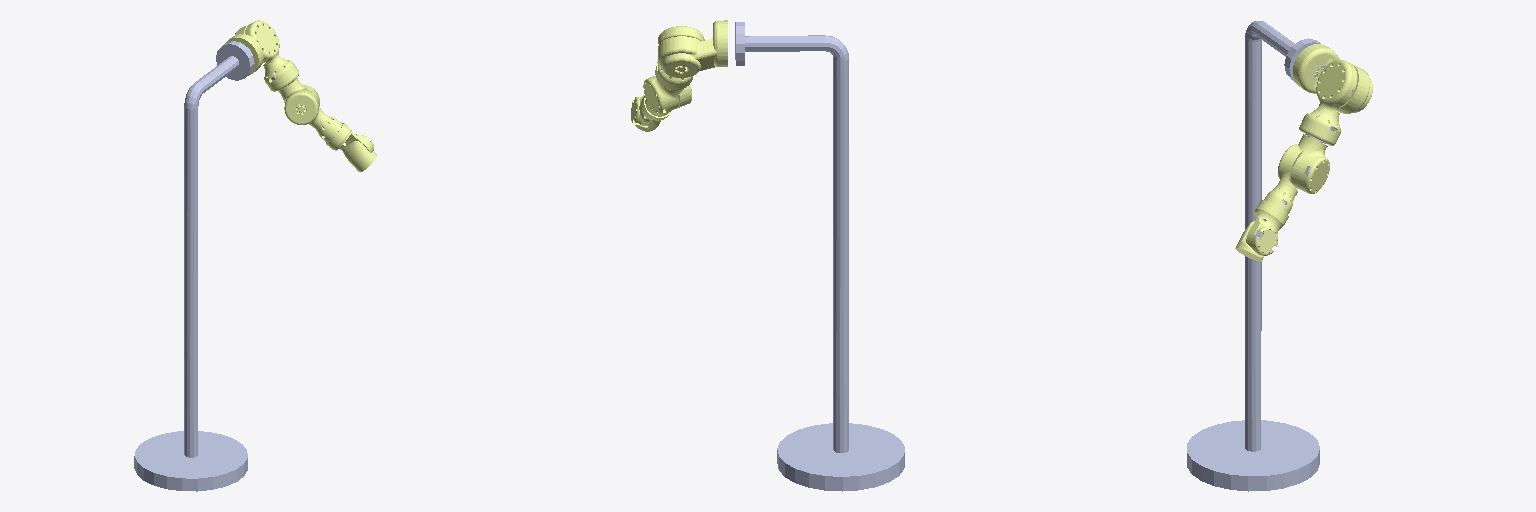
--- Facts derived from the render (not from the file) ---
Views: 3 orthographic renders of the robot side by side, from view 1: azimuth 30°, elevation 25°; view 2: azimuth 150°, elevation 25°; view 3: azimuth 270°, elevation 25°.
Robot: humanoid_arm_5dof_1.1 — 34 links, 33 joints (6 revolute, 27 fixed); root link base_fixture_link; default pose: every joint at zero.
Links seen in each view (by area): view 1: base_fixture_link, left_shoulder_roll, left_elbow, left_hand, left_wrist, left_shoulder_pitch; view 2: base_fixture_link, left_shoulder_pitch, left_shoulder_yaw, left_shoulder_roll, left_wrist; view 3: base_fixture_link, left_shoulder_roll, left_shoulder_pitch, left_shoulder_yaw, left_wrist, left_elbow.
Link boxes in pixels (<box>): base_fixture_link: <box>134,41,254,491</box>; left_shoulder_roll: <box>245,20,298,91</box>; left_elbow: <box>284,90,342,142</box>; left_hand: <box>343,141,376,171</box>; left_wrist: <box>326,123,373,152</box>; left_shoulder_pitch: <box>226,25,264,74</box>; base_fixture_link: <box>735,22,904,491</box>; left_shoulder_pitch: <box>658,20,727,77</box>; left_shoulder_yaw: <box>643,76,683,114</box>; left_shoulder_roll: <box>655,26,704,89</box>; left_wrist: <box>631,95,672,125</box>; base_fixture_link: <box>1187,21,1320,491</box>; left_shoulder_roll: <box>1299,60,1357,145</box>; left_shoulder_pitch: <box>1293,44,1372,113</box>; left_shoulder_yaw: <box>1291,134,1329,193</box>; left_wrist: <box>1246,200,1288,255</box>; left_elbow: <box>1264,144,1302,214</box>.
Size in the robot's own frame: 0.9479 by 0.5564 by 1.52 metres.
Meshes: 34 distinct files referenced, 33 mesh visuals loaded (33 binary STL); not drawn: 1 (reference not matched to a file when rendering).

URDF robot description (humanoid_arm_5dof_1.1):
<?xml version="1.0" encoding="utf-8"?>
<!-- This URDF was automatically created by SolidWorks to URDF Exporter! Originally created by Stephen Brawner ([email redacted]) 
     Commit Version: 1.6.0-4-g7f85cfe  Build Version: 1.6.7995.38578
     For more information, please see http://wiki.ros.org/sw_urdf_exporter -->
<robot
  name="humanoid_arm_5dof_1.1">
  <link
    name="base_fixture_link">
    <inertial>
      <origin
        xyz="0.020038 0.011873 0.36664"
        rpy="0 0 0" />
      <mass
        value="400" />
      <inertia
        ixx="2.851"
        ixy="-0.025185"
        ixz="-0.21797"
        iyy="2.8785"
        iyz="-0.12915"
        izz="0.18525" />
    </inertial>
    <visual>
      <origin
        xyz="0 0 0"
        rpy="0 0 0" />
      <geometry>
        <mesh
          filename="package://humanoid_arm_5dof_1.1/meshes/base_fixture_link.STL" />
      </geometry>
      <material
        name="">
        <color
          rgba="0.79216 0.81961 0.93333 1" />
      </material>
    </visual>
    <collision>
      <origin
        xyz="0 0 0"
        rpy="0 0 0" />
      <geometry>
        <mesh
          filename="package://humanoid_arm_5dof_1.1/meshes/base_fixture_link.STL" />
      </geometry>
    </collision>
  </link>
  <link
    name="left_shoulder_pitch_rs04_actuator">
    <inertial>
      <origin
        xyz="-0.024532 1.1724E-12 -9.6279E-13"
        rpy="0 0 0" />
      <mass
        value="0.51742" />
      <inertia
        ixx="0.00087641"
        ixy="-1.1557E-17"
        ixz="-1.4766E-16"
        iyy="0.0005424"
        iyz="-3.5471E-06"
        izz="0.00054116" />
    </inertial>
    <visual>
      <origin
        xyz="0 0 0"
        rpy="0 0 0" />
      <geometry>
        <mesh
          filename="package://humanoid_arm_5dof_1.1/meshes/left_shoulder_pitch_rs04_actuator.STL" />
      </geometry>
      <material
        name="">
        <color
          rgba="0.82353 0.82353 1 1" />
      </material>
    </visual>
    <collision>
      <origin
        xyz="0 0 0"
        rpy="0 0 0" />
      <geometry>
        <mesh
          filename="package://humanoid_arm_5dof_1.1/meshes/left_shoulder_pitch_rs04_actuator.STL" />
      </geometry>
    </collision>
  </link>
  <joint
    name="left_shoulder_pitch_rs04_actuator_fixture_link"
    type="fixed">
    <origin
      xyz="0.32924 0.19509 1.45"
      rpy="-0.6108 0 0.53491" />
    <parent
      link="base_fixture_link" />
    <child
      link="left_shoulder_pitch_rs04_actuator" />
    <axis
      xyz="0 0 0" />
  </joint>
  <link
    name="left_shoulder_pitch_rs04_flange">
    <inertial>
      <origin
        xyz="-0.00188936806429085 -9.55715032979754E-05 2.58079796440214E-05"
        rpy="0 0 0" />
      <mass
        value="0.00758352122244523" />
      <inertia
        ixx="2.36230802703344E-06"
        ixy="5.7637945082695E-21"
        ixz="-6.12775397779283E-21"
        iyy="1.19406420659587E-06"
        iyz="2.43521972335611E-21"
        izz="1.19406420659588E-06" />
    </inertial>
    <visual>
      <origin
        xyz="0 0 0"
        rpy="0 0 0" />
      <geometry>
        <mesh
          filename="package://humanoid_arm_5dof_1.1/meshes/left_shoulder_pitch_rs04_flange.STL" />
      </geometry>
      <material
        name="">
        <color
          rgba="0.823529411764706 0.823529411764706 1 1" />
      </material>
    </visual>
    <collision>
      <origin
        xyz="0 0 0"
        rpy="0 0 0" />
      <geometry>
        <mesh
          filename="package://humanoid_arm_5dof_1.1/meshes/left_shoulder_pitch_rs04_flange.STL" />
      </geometry>
    </collision>
  </link>
  <joint
    name="left_shoulder_pitch_rs04_joint"
    type="revolute">
    <origin
      xyz="0 0 0"
      rpy="0 0 0" />
    <parent
      link="left_shoulder_pitch_rs04_actuator" />
    <child
      link="left_shoulder_pitch_rs04_flange" />
    <axis
      xyz="1 0 0" />
    <limit
      lower="-3.14"
      upper="3.14"
      effort="120"
      velocity="3" />
    <safety_controller
      soft_upper_limit="3.14"
      soft_lower_limit="-3.14"
      k_velocity="0" />
  </joint>
  <link
    name="m5x22_screws_left_shoulder_pitch">
    <inertial>
      <origin
        xyz="0.0063935043367972 -0.00479834508206478 0.00128572351764866"
        rpy="0 0 0" />
      <mass
        value="0.00474644340626601" />
      <inertia
        ixx="2.66191925293528E-08"
        ixy="-1.25098390817692E-13"
        ixz="-1.97477629424858E-13"
        iyy="3.310539167949E-07"
        iyz="8.62570751952679E-14"
        izz="3.31054672965684E-07" />
    </inertial>
    <visual>
      <origin
        xyz="0 0 0"
        rpy="0 0 0" />
      <geometry>
        <mesh
          filename="package://humanoid_arm_5dof_1.1/meshes/m5x22_screws_left_shoulder_pitch.STL" />
      </geometry>
      <material
        name="">
        <color
          rgba="0.792156862745098 0.819607843137255 0.933333333333333 1" />
      </material>
    </visual>
    <collision>
      <origin
        xyz="0 0 0"
        rpy="0 0 0" />
      <geometry>
        <mesh
          filename="package://humanoid_arm_5dof_1.1/meshes/m5x22_screws_left_shoulder_pitch.STL" />
      </geometry>
    </collision>
  </link>
  <joint
    name="m5x22_screws_left_shoulder_pitch_fixture_joint"
    type="fixed">
    <origin
      xyz="0 0 0"
      rpy="0 0 0" />
    <parent
      link="left_shoulder_pitch_rs04_flange" />
    <child
      link="m5x22_screws_left_shoulder_pitch" />
    <axis
      xyz="0 0 0" />
  </joint>
  <link
    name="left_shoulder_pitch">
    <inertial>
      <origin
        xyz="0.0682474669282063 0.0395514519562079 -5.23403518437604E-06"
        rpy="0 0 0" />
      <mass
        value="1.19772099934384" />
      <inertia
        ixx="0.00347656174420471"
        ixy="-0.00164350112456368"
        ixz="-3.10207740074819E-07"
        iyy="0.00604621894196034"
        iyz="-1.29484314098345E-07"
        izz="0.00615255051550607" />
    </inertial>
    <visual>
      <origin
        xyz="0 0 0"
        rpy="0 0 0" />
      <geometry>
        <mesh
          filename="package://humanoid_arm_5dof_1.1/meshes/left_shoulder_pitch.STL" />
      </geometry>
      <material
        name="">
        <color
          rgba="0.952941176470588 0.996078431372549 0.694117647058824 1" />
      </material>
    </visual>
    <collision>
      <origin
        xyz="0 0 0"
        rpy="0 0 0" />
      <geometry>
        <mesh
          filename="package://humanoid_arm_5dof_1.1/meshes/left_shoulder_pitch.STL" />
      </geometry>
    </collision>
  </link>
  <joint
    name="left_shoulder_pitch_fixture_joint"
    type="fixed">
    <origin
      xyz="0 0 0"
      rpy="0 0 0" />
    <parent
      link="m5x22_screws_left_shoulder_pitch" />
    <child
      link="left_shoulder_pitch" />
    <axis
      xyz="0 0 0" />
  </joint>
  <link
    name="m5x22_screws_left_shoulder_roll">
    <inertial>
      <origin
        xyz="0.11672415599943 0.0615935045052258 2.41514705503487E-05"
        rpy="0 0 0" />
      <mass
        value="0.00610257053905786" />
      <inertia
        ixx="4.25641380807024E-07"
        ixy="1.38655677483118E-13"
        ixz="4.65295401766927E-13"
        iyy="3.42246799589702E-08"
        iyz="2.62800032759062E-13"
        izz="4.25641102603541E-07" />
    </inertial>
    <visual>
      <origin
        xyz="0 0 0"
        rpy="0 0 0" />
      <geometry>
        <mesh
          filename="package://humanoid_arm_5dof_1.1/meshes/m5x22_screws_left_shoulder_roll.STL" />
      </geometry>
      <material
        name="">
        <color
          rgba="0.792156862745098 0.819607843137255 0.933333333333333 1" />
      </material>
    </visual>
    <collision>
      <origin
        xyz="0 0 0"
        rpy="0 0 0" />
      <geometry>
        <mesh
          filename="package://humanoid_arm_5dof_1.1/meshes/m5x22_screws_left_shoulder_roll.STL" />
      </geometry>
    </collision>
  </link>
  <joint
    name="m5x22_screws_left_shoulder_roll_fixture_joint"
    type="fixed">
    <origin
      xyz="0 0 0"
      rpy="0 0 0" />
    <parent
      link="left_shoulder_pitch" />
    <child
      link="m5x22_screws_left_shoulder_roll" />
    <axis
      xyz="0 0 0" />
  </joint>
  <link
    name="left_shoulder_roll_rs04_flange">
    <inertial>
      <origin
        xyz="-3.94129173741931E-14 -0.00211063193644101 9.66495772303233E-11"
        rpy="0 0 0" />
      <mass
        value="0.00758352122244502" />
      <inertia
        ixx="1.19406420659583E-06"
        ixy="9.52912065661088E-22"
        ixz="-5.42630481834786E-22"
        iyy="2.36230802703336E-06"
        iyz="-2.23655047491822E-15"
        izz="1.19406420659583E-06" />
    </inertial>
    <visual>
      <origin
        xyz="0 0 0"
        rpy="0 0 0" />
      <geometry>
        <mesh
          filename="package://humanoid_arm_5dof_1.1/meshes/left_shoulder_roll_rs04_flange.STL" />
      </geometry>
      <material
        name="">
        <color
          rgba="0.823529411764706 0.823529411764706 1 1" />
      </material>
    </visual>
    <collision>
      <origin
        xyz="0 0 0"
        rpy="0 0 0" />
      <geometry>
        <mesh
          filename="package://humanoid_arm_5dof_1.1/meshes/left_shoulder_roll_rs04_flange.STL" />
      </geometry>
    </collision>
  </link>
  <joint
    name="left_shoulder_roll_rs04_flange_joint"
    type="fixed">
    <origin
      xyz="0.11678 0.0487 -2.7056E-05"
      rpy="0 0 3.1416" />
    <parent
      link="m5x22_screws_left_shoulder_roll" />
    <child
      link="left_shoulder_roll_rs04_flange" />
    <axis
      xyz="0 0 0" />
  </joint>
  <link
    name="left_shoulder_roll_rs04_actuator">
    <inertial>
      <origin
        xyz="7.54312757605957E-05 0.0205322216645345 2.70558601349613E-05"
        rpy="0 0 0" />
      <mass
        value="0.517423577893355" />
      <inertia
        ixx="0.000542006962748033"
        ixy="-6.91243937089858E-15"
        ixz="-3.59408880621022E-06"
        iyy="0.000876413569064535"
        iyz="-6.41210581809812E-13"
        izz="0.000541562181671228" />
    </inertial>
    <visual>
      <origin
        xyz="0 0 0"
        rpy="0 0 0" />
      <geometry>
        <mesh
          filename="package://humanoid_arm_5dof_1.1/meshes/left_shoulder_roll_rs04_actuator.STL" />
      </geometry>
      <material
        name="">
        <color
          rgba="0.823529411764706 0.823529411764706 1 1" />
      </material>
    </visual>
    <collision>
      <origin
        xyz="0 0 0"
        rpy="0 0 0" />
      <geometry>
        <mesh
          filename="package://humanoid_arm_5dof_1.1/meshes/left_shoulder_roll_rs04_actuator.STL" />
      </geometry>
    </collision>
  </link>
  <joint
    name="left_shoulder_roll_rs04_actuator_joint"
    type="revolute">
    <origin
      xyz="0 0 0"
      rpy="0 0 0" />
    <parent
      link="left_shoulder_roll_rs04_flange" />
    <child
      link="left_shoulder_roll_rs04_actuator" />
    <axis
      xyz="0 -1 0" />
    <limit
      lower="-3.5"
      upper="0.6"
      effort="120"
      velocity="3" />
    <safety_controller
      soft_upper_limit="3.14"
      soft_lower_limit="-3.14"
      k_velocity="0" />
  </joint>
  <link
    name="m4x25_left_shoulder_screws_roll">
    <inertial>
      <origin
        xyz="5.45041063022556E-05 0.0496289837028945 5.4065350843624E-05"
        rpy="0 0 0" />
      <mass
        value="0.00451430348886328" />
      <inertia
        ixx="3.68173387240355E-07"
        ixy="-6.77491029669699E-15"
        ixz="6.50699246584675E-17"
        iyy="1.54230097659284E-08"
        iyz="1.8834147083779E-16"
        izz="3.68173386339818E-07" />
    </inertial>
    <visual>
      <origin
        xyz="0 0 0"
        rpy="0 0 0" />
      <geometry>
        <mesh
          filename="package://humanoid_arm_5dof_1.1/meshes/m4x25_left_shoulder_screws_roll.STL" />
      </geometry>
      <material
        name="">
        <color
          rgba="0.792156862745098 0.819607843137255 0.933333333333333 1" />
      </material>
    </visual>
    <collision>
      <origin
        xyz="0 0 0"
        rpy="0 0 0" />
      <geometry>
        <mesh
          filename="package://humanoid_arm_5dof_1.1/meshes/m4x25_left_shoulder_screws_roll.STL" />
      </geometry>
    </collision>
  </link>
  <joint
    name="m4x25_left_shoulder_screws_roll_fixture_joint"
    type="fixed">
    <origin
      xyz="0 0 0"
      rpy="0 0 0" />
    <parent
      link="left_shoulder_roll_rs04_actuator" />
    <child
      link="m4x25_left_shoulder_screws_roll" />
    <axis
      xyz="0 0 0" />
  </joint>
  <link
    name="left_shoulder_roll">
    <inertial>
      <origin
        xyz="-0.00752228697600921 0.0497547010298511 -0.0556811673680776"
        rpy="0 0 0" />
      <mass
        value="0.997620677126329" />
      <inertia
        ixx="0.00534467261113571"
        ixy="-8.46143420144779E-05"
        ixz="-0.00043021047830454"
        iyy="0.00591903779805697"
        iyz="-0.000640722348575363"
        izz="0.00178281858845296" />
    </inertial>
    <visual>
      <origin
        xyz="0 0 0"
        rpy="0 0 0" />
      <geometry>
        <mesh
          filename="package://humanoid_arm_5dof_1.1/meshes/left_shoulder_roll.STL" />
      </geometry>
      <material
        name="">
        <color
          rgba="0.952941176470588 0.996078431372549 0.694117647058824 1" />
      </material>
    </visual>
    <collision>
      <origin
        xyz="0 0 0"
        rpy="0 0 0" />
      <geometry>
        <mesh
          filename="package://humanoid_arm_5dof_1.1/meshes/left_shoulder_roll.STL" />
      </geometry>
    </collision>
  </link>
  <joint
    name="left_shoulde_roll_fixture_joint"
    type="fixed">
    <origin
      xyz="0 0 0"
      rpy="0 0 0" />
    <parent
      link="m4x25_left_shoulder_screws_roll" />
    <child
      link="left_shoulder_roll" />
    <axis
      xyz="0 0 0" />
  </joint>
  <link
    name="m4x16_left_shoulder_yaw_screws">
    <inertial>
      <origin
        xyz="2.5579782736429E-10 5.54219781179199E-10 0.0451525729673443"
        rpy="0 0 0" />
      <mass
        value="0.00270184474693418" />
      <inertia
        ixx="1.03557857485271E-07"
        ixy="1.55850041576629E-16"
        ixz="-1.90419676919472E-15"
        iyy="1.0355785773746E-07"
        iyz="-3.97957410574092E-15"
        izz="1.05098007898705E-08" />
    </inertial>
    <visual>
      <origin
        xyz="0 0 0"
        rpy="0 0 0" />
      <geometry>
        <mesh
          filename="package://humanoid_arm_5dof_1.1/meshes/m4x16_left_shoulder_yaw_screws.STL" />
      </geometry>
      <material
        name="">
        <color
          rgba="0.792156862745098 0.819607843137255 0.933333333333333 1" />
      </material>
    </visual>
    <collision>
      <origin
        xyz="0 0 0"
        rpy="0 0 0" />
      <geometry>
        <mesh
          filename="package://humanoid_arm_5dof_1.1/meshes/m4x16_left_shoulder_yaw_screws.STL" />
      </geometry>
    </collision>
  </link>
  <joint
    name="m4x16_left_shoulder_yaw_screws_fixture_joint"
    type="fixed">
    <origin
      xyz="-0.021972 0.0377 -0.17358"
      rpy="0.057123 0.11257 0.47088" />
    <parent
      link="left_shoulder_roll" />
    <child
      link="m4x16_left_shoulder_yaw_screws" />
    <axis
      xyz="0 0 0" />
  </joint>
  <link
    name="left_shoulder_yaw_rs03_actuator">
    <inertial>
      <origin
        xyz="-0.000137350542432579 -0.000269996878971224 0.0250841651661522"
        rpy="0 0 0" />
      <mass
        value="0.356550969588104" />
      <inertia
        ixx="0.000274320425081221"
        ixy="-2.07349930566519E-06"
        ixz="-2.56253667482997E-07"
        iyy="0.000271291938182423"
        iyz="-5.1492479004519E-07"
        izz="0.000381662133737228" />
    </inertial>
    <visual>
      <origin
        xyz="0 0 0"
        rpy="0 0 0" />
      <geometry>
        <mesh
          filename="package://humanoid_arm_5dof_1.1/meshes/left_shoulder_yaw_rs03_actuator.STL" />
      </geometry>
      <material
        name="">
        <color
          rgba="0.823529411764706 0.823529411764706 1 1" />
      </material>
    </visual>
    <collision>
      <origin
        xyz="0 0 0"
        rpy="0 0 0" />
      <geometry>
        <mesh
          filename="package://humanoid_arm_5dof_1.1/meshes/left_shoulder_yaw_rs03_actuator.STL" />
      </geometry>
    </collision>
  </link>
  <joint
    name="left_shoulder_yaw_rs03_actuator_fixture_link"
    type="fixed">
    <origin
      xyz="0 0 0"
      rpy="0 0 0" />
    <parent
      link="m4x16_left_shoulder_yaw_screws" />
    <child
      link="left_shoulder_yaw_rs03_actuator" />
    <axis
      xyz="0 0 0" />
  </joint>
  <link
    name="left_shoulder_yaw_rs03_flange">
    <inertial>
      <origin
        xyz="-1.53386414680767E-10 -2.98890689975906E-10 -0.00125625967877485"
        rpy="0 0 0" />
      <mass
        value="0.0040755509739889" />
      <inertia
        ixx="5.67676746163452E-07"
        ixy="2.47327003153355E-21"
        ixz="5.41456825042137E-16"
        iyy="5.67676746163451E-07"
        iyz="1.07103808934509E-15"
        izz="1.13114082374848E-06" />
    </inertial>
    <visual>
      <origin
        xyz="0 0 0"
        rpy="0 0 0" />
      <geometry>
        <mesh
          filename="package://humanoid_arm_5dof_1.1/meshes/left_shoulder_yaw_rs03_flange.STL" />
      </geometry>
      <material
        name="">
        <color
          rgba="0.823529411764706 0.823529411764706 1 1" />
      </material>
    </visual>
    <collision>
      <origin
        xyz="0 0 0"
        rpy="0 0 0" />
      <geometry>
        <mesh
          filename="package://humanoid_arm_5dof_1.1/meshes/left_shoulder_yaw_rs03_flange.STL" />
      </geometry>
    </collision>
  </link>
  <joint
    name="left_shoulder_yaw_rs03_joint"
    type="revolute">
    <origin
      xyz="0 0 0"
      rpy="0 0 0" />
    <parent
      link="left_shoulder_yaw_rs03_actuator" />
    <child
      link="left_shoulder_yaw_rs03_flange" />
    <axis
      xyz="0 0 1" />
    <limit
      lower="-3.14"
      upper="3.14"
      effort="60"
      velocity="1.6" />
    <safety_controller
      soft_upper_limit="3.14"
      soft_lower_limit="-3.14"
      k_velocity="0" />
  </joint>
  <link
    name="left_shoulder_yaw_shaft">
    <inertial>
      <origin
        xyz="-1.67102665038499E-10 -3.20123483277257E-10 -0.0119851125606603"
        rpy="0 0 0" />
      <mass
        value="0.000903649674373989" />
      <inertia
        ixx="4.41715688076232E-08"
        ixy="-3.20532487364298E-24"
        ixz="-4.07115851726496E-17"
        iyy="4.41715688076231E-08"
        iyz="-8.05300787860035E-17"
        izz="1.80539813295948E-09" />
    </inertial>
    <visual>
      <origin
        xyz="0 0 0"
        rpy="0 0 0" />
      <geometry>
        <mesh
          filename="package://humanoid_arm_5dof_1.1/meshes/left_shoulder_yaw_shaft.STL" />
      </geometry>
      <material
        name="">
        <color
          rgba="0.823529411764706 0.823529411764706 1 1" />
      </material>
    </visual>
    <collision>
      <origin
        xyz="0 0 0"
        rpy="0 0 0" />
      <geometry>
        <mesh
          filename="package://humanoid_arm_5dof_1.1/meshes/left_shoulder_yaw_shaft.STL" />
      </geometry>
    </collision>
  </link>
  <joint
    name="left_shoulder_yaw_shaft_fixture_joint"
    type="fixed">
    <origin
      xyz="0 0 0"
      rpy="0 0 0" />
    <parent
      link="left_shoulder_yaw_rs03_flange" />
    <child
      link="left_shoulder_yaw_shaft" />
    <axis
      xyz="0 0 0" />
    <limit
      lower="0"
      upper="0"
      effort="0"
      velocity="0" />
  </joint>
  <link
    name="left_shoulder_yaw_flange">
    <inertial>
      <origin
        xyz="-1.60467861221036E-10 -3.08570058393798E-10 -0.00898037826096698"
        rpy="0 0 0" />
      <mass
        value="0.035353146109952" />
      <inertia
        ixx="9.85459914702348E-06"
        ixy="-7.54070449635424E-08"
        ixz="9.0137661709249E-15"
        iyy="9.59337705821327E-06"
        iyz="1.6920408928416E-14"
        izz="1.87117812635894E-05" />
    </inertial>
    <visual>
      <origin
        xyz="0 0 0"
        rpy="0 0 0" />
      <geometry>
        <mesh
          filename="package://humanoid_arm_5dof_1.1/meshes/left_shoulder_yaw_flange.STL" />
      </geometry>
      <material
        name="">
        <color
          rgba="0.952941176470588 0.996078431372549 0.694117647058824 1" />
      </material>
    </visual>
    <collision>
      <origin
        xyz="0 0 0"
        rpy="0 0 0" />
      <geometry>
        <mesh
          filename="package://humanoid_arm_5dof_1.1/meshes/left_shoulder_yaw_flange.STL" />
      </geometry>
    </collision>
  </link>
  <joint
    name="left_shoulder_yaw_flange_fixture_joint"
    type="fixed">
    <origin
      xyz="0 0 0"
      rpy="0 0 0" />
    <parent
      link="left_shoulder_yaw_shaft" />
    <child
      link="left_shoulder_yaw_flange" />
    <axis
      xyz="0 0 0" />
  </joint>
  <link
    name="1220_m4x16_left_shoulder_yaw_screws">
    <inertial>
      <origin
        xyz="-2.46136444559397E-10 8.27351520626962E-11 -0.0114719356108075"
        rpy="0 0 0" />
      <mass
        value="0.0014103641869818" />
      <inertia
        ixx="3.71610598568597E-08"
        ixy="-3.45285867194948E-21"
        ixz="-3.1304614416035E-17"
        iyy="3.7161059856858E-08"
        iyz="-6.1911171087287E-17"
        izz="4.58636225470991E-09" />
    </inertial>
    <visual>
      <origin
        xyz="0 0 0"
        rpy="0 0 0" />
      <geometry>
        <mesh
          filename="package://humanoid_arm_5dof_1.1/meshes/1220_m4x16_left_shoulder_yaw_screws.STL" />
      </geometry>
      <material
        name="">
        <color
          rgba="0.792156862745098 0.819607843137255 0.933333333333333 1" />
      </material>
    </visual>
    <collision>
      <origin
        xyz="0 0 0"
        rpy="0 0 0" />
      <geometry>
        <mesh
          filename="package://humanoid_arm_5dof_1.1/meshes/1220_m4x16_left_shoulder_yaw_screws.STL" />
      </geometry>
    </collision>
  </link>
  <joint
    name="1220_m4x16_left_shoulder_yaw_screws_fixture_joint"
    type="fixed">
    <origin
      xyz="0 0 0"
      rpy="0 0 0" />
    <parent
      link="left_shoulder_yaw_flange" />
    <child
      link="1220_m4x16_left_shoulder_yaw_screws" />
    <axis
      xyz="0 0 0" />
  </joint>
  <link
    name="m4x25_left_shoulder_yaw_screws">
    <inertial>
      <origin
        xyz="-6.78105793738837E-10 -1.39607436722144E-09 -0.0144289836622529"
        rpy="0 0 0" />
      <mass
        value="0.00270858202481973" />
      <inertia
        ixx="2.20903769276246E-07"
        ixy="4.5276773617796E-13"
        ixz="-1.98370339834682E-15"
        iyy="2.20904293495991E-07"
        iyz="-4.13368340010556E-15"
        izz="9.2538047151024E-09" />
    </inertial>
    <visual>
      <origin
        xyz="0 0 0"
        rpy="0 0 0" />
      <geometry>
        <mesh
          filename="package://humanoid_arm_5dof_1.1/meshes/m4x25_left_shoulder_yaw_screws.STL" />
      </geometry>
      <material
        name="">
        <color
          rgba="0.792156862745098 0.819607843137255 0.933333333333333 1" />
      </material>
    </visual>
    <collision>
      <origin
        xyz="0 0 0"
        rpy="0 0 0" />
      <geometry>
        <mesh
          filename="package://humanoid_arm_5dof_1.1/meshes/m4x25_left_shoulder_yaw_screws.STL" />
      </geometry>
    </collision>
  </link>
  <joint
    name="m4x25_left_shoulder_yaw_screws_fixture_joint"
    type="fixed">
    <origin
      xyz="0 0 0"
      rpy="0 0 0" />
    <parent
      link="1220_m4x16_left_shoulder_yaw_screws" />
    <child
      link="m4x25_left_shoulder_yaw_screws" />
    <axis
      xyz="0 0 0" />
  </joint>
  <link
    name="left_shoulder_yaw">
    <inertial>
      <origin
        xyz="-0.0276085511322613 1.01200275359759E-06 -0.0766319307470111"
        rpy="0 0 0" />
      <mass
        value="0.488068654985126" />
      <inertia
        ixx="0.00146908224174374"
        ixy="2.07765649369314E-07"
        ixz="-0.000271215897480726"
        iyy="0.00131630379047448"
        iyz="6.91085961686537E-08"
        izz="0.000811624953151409" />
    </inertial>
    <visual>
      <origin
        xyz="0 0 0"
        rpy="0 0 0" />
      <geometry>
        <mesh
          filename="package://humanoid_arm_5dof_1.1/meshes/left_shoulder_yaw.STL" />
      </geometry>
      <material
        name="">
        <color
          rgba="0.952941176470588 0.996078431372549 0.694117647058824 1" />
      </material>
    </visual>
    <collision>
      <origin
        xyz="0 0 0"
        rpy="0 0 0" />
      <geometry>
        <mesh
          filename="package://humanoid_arm_5dof_1.1/meshes/left_shoulder_yaw.STL" />
      </geometry>
    </collision>
  </link>
  <joint
    name="left_shoulder_yaw_fixture_joint"
    type="fixed">
    <origin
      xyz="0 0 0"
      rpy="0 0 0" />
    <parent
      link="m4x25_left_shoulder_yaw_screws" />
    <child
      link="left_shoulder_yaw" />
    <axis
      xyz="0 0 0" />
  </joint>
  <link
    name="m4x16_eft_elbow_screws">
    <inertial>
      <origin
        xyz="0.0203953562271262 0.0412900580037792 8.9505136635637E-10"
        rpy="0 0 0" />
      <mass
        value="0.00270184358647757" />
      <inertia
        ixx="8.5307878105114E-08"
        ixy="-3.69467570031513E-08"
        ixz="-1.80311507673388E-15"
        iyy="2.87597563316015E-08"
        iyz="-3.57041578562358E-15"
        izz="1.03557847634927E-07" />
    </inertial>
    <visual>
      <origin
        xyz="0 0 0"
        rpy="0 0 0" />
      <geometry>
        <mesh
          filename="package://humanoid_arm_5dof_1.1/meshes/m4x16_eft_elbow_screws.STL" />
      </geometry>
      <material
        name="">
        <color
          rgba="0.792156862745098 0.819607843137255 0.933333333333333 1" />
      </material>
    </visual>
    <collision>
      <origin
        xyz="0 0 0"
        rpy="0 0 0" />
      <geometry>
        <mesh
          filename="package://humanoid_arm_5dof_1.1/meshes/m4x16_eft_elbow_screws.STL" />
      </geometry>
    </collision>
  </link>
  <joint
    name="m4x16_eft_elbow_screws_fixture_joint"
    type="fixed">
    <origin
      xyz="0 0 -0.0987"
      rpy="0 0 2.0296" />
    <parent
      link="left_shoulder_yaw" />
    <child
      link="m4x16_eft_elbow_screws" />
    <axis
      xyz="0 0 0" />
  </joint>
  <link
    name="left_elbow_rs03_actuator">
    <inertial>
      <origin
        xyz="0.0111097812731513 0.0224897321704036 -0.00030290848761072"
        rpy="0 0 0" />
      <mass
        value="0.356550890896859" />
      <inertia
        ixx="0.000296217970946762"
        ixy="4.22025243309491E-05"
        ixz="-2.44834226083368E-07"
        iyy="0.000360818228633436"
        iyz="-5.20600183792302E-07"
        izz="0.000270239476177235" />
    </inertial>
    <visual>
      <origin
        xyz="0 0 0"
        rpy="0 0 0" />
      <geometry>
        <mesh
          filename="package://humanoid_arm_5dof_1.1/meshes/left_elbow_rs03_actuator.STL" />
      </geometry>
      <material
        name="">
        <color
          rgba="0.823529411764706 0.823529411764706 1 1" />
      </material>
    </visual>
    <collision>
      <origin
        xyz="0 0 0"
        rpy="0 0 0" />
      <geometry>
        <mesh
          filename="package://humanoid_arm_5dof_1.1/meshes/left_elbow_rs03_actuator.STL" />
      </geometry>
    </collision>
  </link>
  <joint
    name="left_elbow_rs03_actuator_ficture_link"
    type="fixed">
    <origin
      xyz="0 0 0"
      rpy="0 0 0" />
    <parent
      link="m4x16_eft_elbow_screws" />
    <child
      link="left_elbow_rs03_actuator" />
    <axis
      xyz="0 0 0" />
  </joint>
  <link
    name="left_elbow_rs03_flange">
    <inertial>
      <origin
        xyz="-0.000556362125168963 -0.00112634320717309 -1.71165526197115E-10"
        rpy="0 0 0" />
      <mass
        value="0.00407555097398898" />
      <inertia
        ixx="6.78191701523501E-07"
        ixy="2.23735674453279E-07"
        ixz="2.13638147030667E-16"
        iyy="1.02062586838849E-06"
        iyz="4.32507265141112E-16"
        izz="5.6767674616347E-07" />
    </inertial>
    <visual>
      <origin
        xyz="0 0 0"
        rpy="0 0 0" />
      <geometry>
        <mesh
          filename="package://humanoid_arm_5dof_1.1/meshes/left_elbow_rs03_flange.STL" />
      </geometry>
      <material
        name="">
        <color
          rgba="0.823529411764706 0.823529411764706 1 1" />
      </material>
    </visual>
    <collision>
      <origin
        xyz="0 0 0"
        rpy="0 0 0" />
      <geometry>
        <mesh
          filename="package://humanoid_arm_5dof_1.1/meshes/left_elbow_rs03_flange.STL" />
      </geometry>
    </collision>
  </link>
  <joint
    name="left_elbow_rs03_joint"
    type="revolute">
    <origin
      xyz="0 0 0"
      rpy="0 0 0" />
    <parent
      link="left_elbow_rs03_actuator" />
    <child
      link="left_elbow_rs03_flange" />
    <axis
      xyz="0.44287 0.89659 0" />
    <limit
      lower="-1.3"
      upper="1.9"
      effort="60"
      velocity="1.6" />
    <safety_controller
      soft_upper_limit="3.14"
      soft_lower_limit="-3.14"
      k_velocity="0" />
  </joint>
  <link
    name="left_elbow_shaft">
    <inertial>
      <origin
        xyz="-0.514023072393507 0.0789116770807008 -0.294612659340846"
        rpy="0 0 0" />
      <mass
        value="16.3859228521728" />
      <inertia
        ixx="4.16738711192707"
        ixy="0.924028127098497"
        ixz="-3.13052392625252"
        iyy="7.10700847384237"
        iyz="1.12422207884158"
        izz="3.92149044711519" />
    </inertial>
    <visual>
      <origin
        xyz="0 0 0"
        rpy="0 0 0" />
      <geometry>
        <mesh
          filename="package://humanoid_arm_5dof_1.1/meshes/left_elbow_shaft.STL" />
      </geometry>
      <material
        name="">
        <color
          rgba="0.752941176470588 0.752941176470588 0.752941176470588 1" />
      </material>
    </visual>
    <collision>
      <origin
        xyz="0 0 0"
        rpy="0 0 0" />
      <geometry>
        <mesh
          filename="package://humanoid_arm_5dof_1.1/meshes/left_elbow_shaft.STL" />
      </geometry>
    </collision>
  </link>
  <joint
    name="left_elbow_shaft_fixture_joint"
    type="fixed">
    <origin
      xyz="0 0 0"
      rpy="0 0 0" />
    <parent
      link="left_elbow_rs03_flange" />
    <child
      link="left_elbow_shaft" />
    <axis
      xyz="0 0 0" />
  </joint>
  <link
    name="m4x25_left_elbow_screws">
    <inertial>
      <origin
        xyz="-0.00623517627541537 -0.0126230082813592 -1.57688684332413E-09"
        rpy="0 0 0" />
      <mass
        value="0.00270858033444498" />
      <inertia
        ixx="1.79392020964126E-07"
        ixy="-8.40403333063648E-08"
        ixz="-2.2038575376356E-15"
        iyy="5.07657695628291E-08"
        iyz="-4.76822323956778E-15"
        izz="2.2090401494749E-07" />
    </inertial>
    <visual>
      <origin
        xyz="0 0 0"
        rpy="0 0 0" />
      <geometry>
        <mesh
          filename="package://humanoid_arm_5dof_1.1/meshes/m4x25_left_elbow_screws.STL" />
      </geometry>
      <material
        name="">
        <color
          rgba="0.792156862745098 0.819607843137255 0.933333333333333 1" />
      </material>
    </visual>
    <collision>
      <origin
        xyz="0 0 0"
        rpy="0 0 0" />
      <geometry>
        <mesh
          filename="package://humanoid_arm_5dof_1.1/meshes/m4x25_left_elbow_screws.STL" />
      </geometry>
    </collision>
  </link>
  <joint
    name="m4x25_left_elbow_screws_fixture_joint"
    type="fixed">
    <origin
      xyz="0 0 0"
      rpy="0 0 0" />
    <parent
      link="left_elbow_shaft" />
    <child
      link="m4x25_left_elbow_screws" />
    <axis
      xyz="0 0 0" />
  </joint>
  <link
    name="left_elbow">
    <inertial>
      <origin
        xyz="-0.00117660582092771 -0.022641696033932 -0.0323595608375808"
        rpy="0 0 0" />
      <mass
        value="0.779765455775871" />
      <inertia
        ixx="0.00250248652168947"
        ixy="0.000107026075524518"
        ixz="0.0005731007053921"
        iyy="0.00291648267618793"
        iyz="0.000125954370046301"
        izz="0.0009727842136137" />
    </inertial>
    <visual>
      <origin
        xyz="0 0 0"
        rpy="0 0 0" />
      <geometry>
        <mesh
          filename="package://humanoid_arm_5dof_1.1/meshes/left_elbow.STL" />
      </geometry>
      <material
        name="">
        <color
          rgba="0.952941176470588 0.996078431372549 0.694117647058824 1" />
      </material>
    </visual>
    <collision>
      <origin
        xyz="0 0 0"
        rpy="0 0 0" />
      <geometry>
        <mesh
          filename="package://humanoid_arm_5dof_1.1/meshes/left_elbow.STL" />
      </geometry>
    </collision>
  </link>
  <joint
    name="left_elbow_fixture_joint"
    type="fixed">
    <origin
      xyz="0 0 0"
      rpy="0 0 0" />
    <parent
      link="m4x25_left_elbow_screws" />
    <child
      link="left_elbow" />
    <axis
      xyz="0 0 0" />
  </joint>
  <link
    name="m3x20_left_wrist_screws">
    <inertial>
      <origin
        xyz="-0.00322617489995503 -0.037485447942657 0.00322630827041515"
        rpy="0 0 0" />
      <mass
        value="0.00162137028637927" />
      <inertia
        ixx="8.36724015923321E-08"
        ixy="7.03933741798225E-16"
        ixz="-1.09755049470113E-14"
        iyy="3.32920091133997E-09"
        iyz="-9.7250106051877E-14"
        izz="8.36724115121901E-08" />
    </inertial>
    <visual>
      <origin
        xyz="0 0 0"
        rpy="0 0 0" />
      <geometry>
        <mesh
          filename="package://humanoid_arm_5dof_1.1/meshes/m3x20_left_wrist_screws.STL" />
      </geometry>
      <material
        name="">
        <color
          rgba="0.792156862745098 0.819607843137255 0.933333333333333 1" />
      </material>
    </visual>
    <collision>
      <origin
        xyz="0 0 0"
        rpy="0 0 0" />
      <geometry>
        <mesh
          filename="package://humanoid_arm_5dof_1.1/meshes/m3x20_left_wrist_screws.STL" />
      </geometry>
    </collision>
  </link>
  <joint
    name="m3x20_left_wrist_screws_fixture_joint"
    type="fixed">
    <origin
      xyz="0.037069 -0.024445 -0.15849"
      rpy="-1.2996 0 -2.0296" />
    <parent
      link="left_elbow" />
    <child
      link="m3x20_left_wrist_screws" />
    <axis
      xyz="0 0 0" />
  </joint>
  <link
    name="left_wrist_actuator">
    <inertial>
      <origin
        xyz="-3.38227224006005E-10 -0.0230138334252339 1.5071195758054E-07"
        rpy="0 0 0" />
      <mass
        value="0.180583065420556" />
      <inertia
        ixx="8.80899821792287E-05"
        ixy="-3.2000915970454E-14"
        ixz="-1.10114283143059E-19"
        iyy="0.000127000739066153"
        iyz="4.70435805145308E-11"
        izz="8.80899821792857E-05" />
    </inertial>
    <visual>
      <origin
        xyz="0 0 0"
        rpy="0 0 0" />
      <geometry>
        <mesh
          filename="package://humanoid_arm_5dof_1.1/meshes/left_wrist_actuator.STL" />
      </geometry>
      <material
        name="">
        <color
          rgba="0.823529411764706 0.823529411764706 1 1" />
      </material>
    </visual>
    <collision>
      <origin
        xyz="0 0 0"
        rpy="0 0 0" />
      <geometry>
        <mesh
          filename="package://humanoid_arm_5dof_1.1/meshes/left_wrist_actuator.STL" />
      </geometry>
    </collision>
  </link>
  <joint
    name="left_wrist_actuator_fixture_link"
    type="fixed">
    <origin
      xyz="0 0 0"
      rpy="0 0 0" />
    <parent
      link="m3x20_left_wrist_screws" />
    <child
      link="left_wrist_actuator" />
    <axis
      xyz="0 0 0" />
  </joint>
  <link
    name="left_wrist_rs02_flange">
    <inertial>
      <origin
        xyz="-4.04482225491165E-10 -0.00198993495050948 1.7656522466325E-07"
        rpy="0 0 0" />
      <mass
        value="0.00245793392108131" />
      <inertia
        ixx="1.34950766910329E-07"
        ixy="-1.05559411859265E-16"
        ixz="-2.75451143980158E-22"
        iyy="2.63403217776685E-07"
        iyz="1.55300624850455E-13"
        izz="1.34950766910516E-07" />
    </inertial>
    <visual>
      <origin
        xyz="0 0 0"
        rpy="0 0 0" />
      <geometry>
        <mesh
          filename="package://humanoid_arm_5dof_1.1/meshes/left_wrist_rs02_flange.STL" />
      </geometry>
      <material
        name="">
        <color
          rgba="0.823529411764706 0.823529411764706 1 1" />
      </material>
    </visual>
    <collision>
      <origin
        xyz="0 0 0"
        rpy="0 0 0" />
      <geometry>
        <mesh
          filename="package://humanoid_arm_5dof_1.1/meshes/left_wrist_rs02_flange.STL" />
      </geometry>
    </collision>
  </link>
  <joint
    name="left_wrist_rs02_joint"
    type="revolute">
    <origin
      xyz="0 0 0"
      rpy="0 0 0" />
    <parent
      link="left_wrist_actuator" />
    <child
      link="left_wrist_rs02_flange" />
    <axis
      xyz="0 1 0" />
    <limit
      lower="-3.14"
      upper="3.14"
      effort="17"
      velocity="0.8" />
    <safety_controller
      soft_upper_limit="3.14"
      soft_lower_limit="-3.14"
      k_velocity="0" />
  </joint>
  <link
    name="m4x20_left_wrist_screws">
    <inertial>
      <origin
        xyz="3.32646576950424E-08 0.0084026650580129 2.10519430332567E-07"
        rpy="0 0 0" />
      <mass
        value="0.00232797016313302" />
      <inertia
        ixx="1.29587507987163E-07"
        ixy="-3.32267475376017E-13"
        ixz="3.13118176641034E-13"
        iyy="8.48546817340278E-09"
        iyz="-3.56341205573576E-13"
        izz="1.2958722064008E-07" />
    </inertial>
    <visual>
      <origin
        xyz="0 0 0"
        rpy="0 0 0" />
      <geometry>
        <mesh
          filename="package://humanoid_arm_5dof_1.1/meshes/m4x20_left_wrist_screws.STL" />
      </geometry>
      <material
        name="">
        <color
          rgba="0.792156862745098 0.819607843137255 0.933333333333333 1" />
      </material>
    </visual>
    <collision>
      <origin
        xyz="0 0 0"
        rpy="0 0 0" />
      <geometry>
        <mesh
          filename="package://humanoid_arm_5dof_1.1/meshes/m4x20_left_wrist_screws.STL" />
      </geometry>
    </collision>
  </link>
  <joint
    name="m4x20_left_wrist_screws_fixture_joint"
    type="fixed">
    <origin
      xyz="0 0 0"
      rpy="0 0 0" />
    <parent
      link="left_wrist_rs02_flange" />
    <child
      link="m4x20_left_wrist_screws" />
    <axis
      xyz="0 0 0" />
  </joint>
  <link
    name="left_wrist_shaft">
    <inertial>
      <origin
        xyz="-4.12632372714938E-10 0.00798511244069955 1.88625169705858E-07"
        rpy="0 0 0" />
      <mass
        value="0.000903649674373966" />
      <inertia
        ixx="4.41715688076213E-08"
        ixy="3.48151404884518E-17"
        ixz="4.16692233573588E-23"
        iyy="1.80539813302135E-09"
        iyz="-5.12212323871548E-14"
        izz="4.41715688075594E-08" />
    </inertial>
    <visual>
      <origin
        xyz="0 0 0"
        rpy="0 0 0" />
      <geometry>
        <mesh
          filename="package://humanoid_arm_5dof_1.1/meshes/left_wrist_shaft.STL" />
      </geometry>
      <material
        name="">
        <color
          rgba="0.823529411764706 0.823529411764706 1 1" />
      </material>
    </visual>
    <collision>
      <origin
        xyz="0 0 0"
        rpy="0 0 0" />
      <geometry>
        <mesh
          filename="package://humanoid_arm_5dof_1.1/meshes/left_wrist_shaft.STL" />
      </geometry>
    </collision>
  </link>
  <joint
    name="left_wrist_shaft_fixture_joint"
    type="fixed">
    <origin
      xyz="0 0 0"
      rpy="0 0 0" />
    <parent
      link="m4x20_left_wrist_screws" />
    <child
      link="left_wrist_shaft" />
    <axis
      xyz="0 0 0" />
  </joint>
  <link
    name="left_wrist">
    <inertial>
      <origin
        xyz="-0.0126284319522777 0.0418086819204238 0.00594046727215813"
        rpy="0 0 0" />
      <mass
        value="0.388950905166563" />
      <inertia
        ixx="0.000833659232932725"
        ixy="0.000191177318242008"
        ixz="2.04623744278247E-06"
        iyy="0.000517833882964415"
        iyz="-8.9557286905178E-05"
        izz="0.000838969495047794" />
    </inertial>
    <visual>
      <origin
        xyz="0 0 0"
        rpy="0 0 0" />
      <geometry>
        <mesh
          filename="package://humanoid_arm_5dof_1.1/meshes/left_wrist.STL" />
      </geometry>
      <material
        name="">
        <color
          rgba="0.952941176470588 0.996078431372549 0.694117647058824 1" />
      </material>
    </visual>
    <collision>
      <origin
        xyz="0 0 0"
        rpy="0 0 0" />
      <geometry>
        <mesh
          filename="package://humanoid_arm_5dof_1.1/meshes/left_wrist.STL" />
      </geometry>
    </collision>
  </link>
  <joint
    name="left_wrist_fixture_joint"
    type="fixed">
    <origin
      xyz="0 0 0"
      rpy="0 0 0" />
    <parent
      link="left_wrist_shaft" />
    <child
      link="left_wrist" />
    <axis
      xyz="0 0 0" />
  </joint>
  <link
    name="m3x16_left_hand_screws">
    <inertial>
      <origin
        xyz="-0.0363345583169044 0.00271816499833433 0.00366473339130802"
        rpy="0 0 0" />
      <mass
        value="0.00139374174732649" />
      <inertia
        ixx="3.07153113593333E-09"
        ixy="-2.72932818483645E-15"
        ixz="-1.87300017933218E-14"
        iyy="4.88927935104799E-08"
        iyz="1.38709572835552E-16"
        izz="4.88928835911797E-08" />
    </inertial>
    <visual>
      <origin
        xyz="0 0 0"
        rpy="0 0 0" />
      <geometry>
        <mesh
          filename="package://humanoid_arm_5dof_1.1/meshes/m3x16_left_hand_screws.STL" />
      </geometry>
      <material
        name="">
        <color
          rgba="0.792156862745098 0.819607843137255 0.933333333333333 1" />
      </material>
    </visual>
    <collision>
      <origin
        xyz="0 0 0"
        rpy="0 0 0" />
      <geometry>
        <mesh
          filename="package://humanoid_arm_5dof_1.1/meshes/m3x16_left_hand_screws.STL" />
      </geometry>
    </collision>
  </link>
  <joint
    name="m3x16_left_hand_screws_fixture_joint"
    type="fixed">
    <origin
      xyz="0 0.0945 0"
      rpy="0.64485 0.44406 0" />
    <parent
      link="left_wrist" />
    <child
      link="m3x16_left_hand_screws" />
    <axis
      xyz="0 0 0" />
  </joint>
  <link
    name="left_hand_rs02">
    <inertial>
      <origin
        xyz="-0.0230139545434718 1.43884311576414E-07 2.09463708378266E-07"
        rpy="0 0 0" />
      <mass
        value="0.180583065420555" />
      <inertia
        ixx="0.000127000739066202"
        ixy="1.45525618105826E-11"
        ixz="-1.09526492523659E-11"
        iyy="8.80899821792322E-05"
        iyz="-3.92101631214872E-18"
        izz="8.808998217923E-05" />
    </inertial>
    <visual>
      <origin
        xyz="0 0 0"
        rpy="0 0 0" />
      <geometry>
        <mesh
          filename="package://humanoid_arm_5dof_1.1/meshes/left_hand_rs02.STL" />
      </geometry>
      <material
        name="">
        <color
          rgba="0.823529411764706 0.823529411764706 1 1" />
      </material>
    </visual>
    <collision>
      <origin
        xyz="0 0 0"
        rpy="0 0 0" />
      <geometry>
        <mesh
          filename="package://humanoid_arm_5dof_1.1/meshes/left_hand_rs02.STL" />
      </geometry>
    </collision>
  </link>
  <joint
    name="left_hand_rs02_fixture_link"
    type="fixed">
    <origin
      xyz="0 0 0"
      rpy="0 0 0" />
    <parent
      link="m3x16_left_hand_screws" />
    <child
      link="left_hand_rs02" />
    <axis
      xyz="0 0 0" />
  </joint>
  <link
    name="left_hand_rs02_flange">
    <inertial>
      <origin
        xyz="-0.00201018644790724 1.51739685705365E-07 2.0355156260532E-07"
        rpy="0 0 0" />
      <mass
        value="0.00245793392108144" />
      <inertia
        ixx="2.63403217776863E-07"
        ixy="4.80410901722501E-14"
        ixz="-3.61570083447584E-14"
        iyy="1.34950766910356E-07"
        iyz="-1.33842690619523E-20"
        izz="1.34950766910349E-07" />
    </inertial>
    <visual>
      <origin
        xyz="0 0 0"
        rpy="0 0 0" />
      <geometry>
        <mesh
          filename="package://humanoid_arm_5dof_1.1/meshes/left_hand_rs02_flange.STL" />
      </geometry>
      <material
        name="">
        <color
          rgba="0.823529411764706 0.823529411764706 1 1" />
      </material>
    </visual>
    <collision>
      <origin
        xyz="0 0 0"
        rpy="0 0 0" />
      <geometry>
        <mesh
          filename="package://humanoid_arm_5dof_1.1/meshes/left_hand_rs02_flange.STL" />
      </geometry>
    </collision>
  </link>
  <joint
    name="left_hand_rs02_joint"
    type="revolute">
    <origin
      xyz="0 0 0"
      rpy="0 0 0" />
    <parent
      link="left_hand_rs02" />
    <child
      link="left_hand_rs02_flange" />
    <axis
      xyz="1 0 0" />
    <limit
      lower="-1.5"
      upper="1.7"
      effort="17"
      velocity="0.8" />
    <safety_controller
      soft_upper_limit="1.7"
      soft_lower_limit="-1.5"
      k_velocity="0" />
  </joint>
  <link
    name="left_hand">
    <inertial>
      <origin
        xyz="0.0119773774839164 0.0114766683647565 -0.0111415398773689"
        rpy="0 0 0" />
      <mass
        value="0.285530357010459" />
      <inertia
        ixx="0.000354627596033385"
        ixy="1.61688557058995E-05"
        ixz="-1.60212159121833E-05"
        iyy="0.0002475134332717"
        iyz="3.07039763416872E-05"
        izz="0.000247329279761545" />
    </inertial>
    <visual>
      <origin
        xyz="0 0 0"
        rpy="0 0 0" />
      <geometry>
        <mesh
          filename="package://humanoid_arm_5dof_1.1/meshes/left_hand.STL" />
      </geometry>
      <material
        name="">
        <color
          rgba="0.952941176470588 0.996078431372549 0.694117647058824 1" />
      </material>
    </visual>
    <collision>
      <origin
        xyz="0 0 0"
        rpy="0 0 0" />
      <geometry>
        <mesh
          filename="package://humanoid_arm_5dof_1.1/meshes/left_hand.STL" />
      </geometry>
    </collision>
  </link>
  <joint
    name="left_hand_fixture_joint"
    type="fixed">
    <origin
      xyz="0 0 0"
      rpy="0 0 0" />
    <parent
      link="left_hand_rs02_flange" />
    <child
      link="left_hand" />
    <axis
      xyz="0 0 0" />
  </joint>
</robot>
